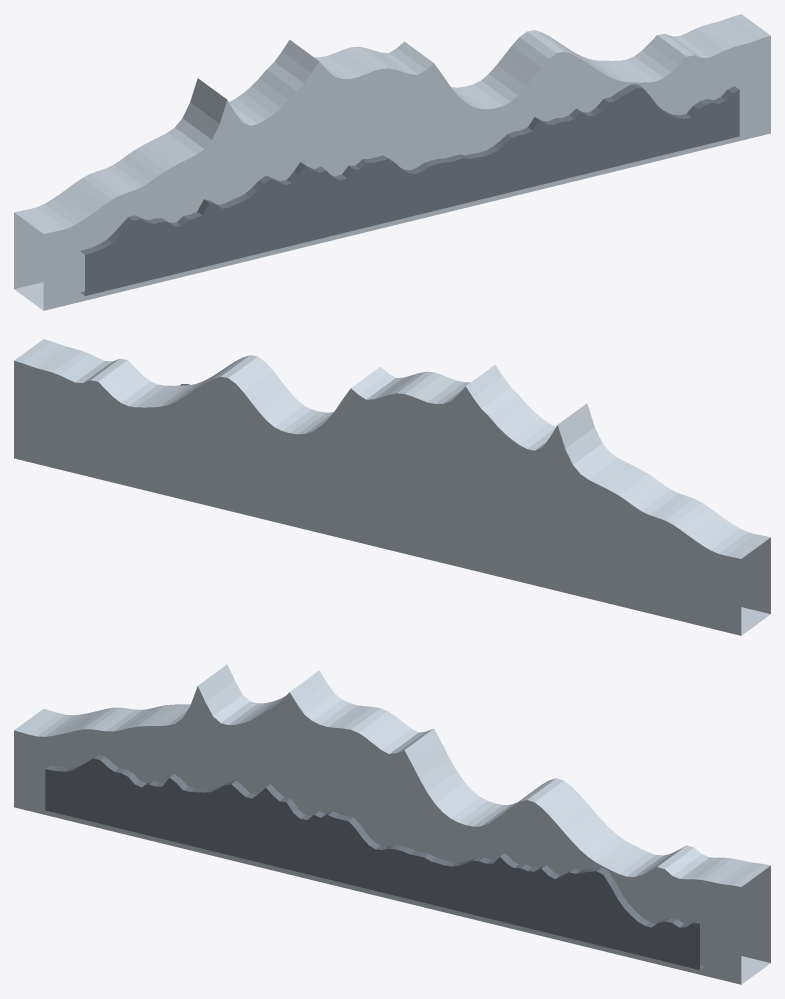
Rendered from backdrop_winter_far.glb.
The picture shows the model from 3 angles, top to bottom: view 1: azimuth 30°, elevation 25°; view 2: azimuth 150°, elevation 25°; view 3: azimuth 330°, elevation 25°; orthographic projection.
Visible parts, largest first — view 1: WinterFar, trim_WinterFar; view 2: WinterFar; view 3: WinterFar, trim_WinterFar.
Boxes of the visible parts, box(x1,y1,x2,y2) form: WinterFar: box(14, 14, 770, 310); trim_WinterFar: box(80, 84, 739, 295); WinterFar: box(14, 339, 770, 635); WinterFar: box(14, 664, 770, 984); trim_WinterFar: box(45, 755, 704, 969).
Bounding box in the file's own units: 78 × 18.7 × 6.45.
